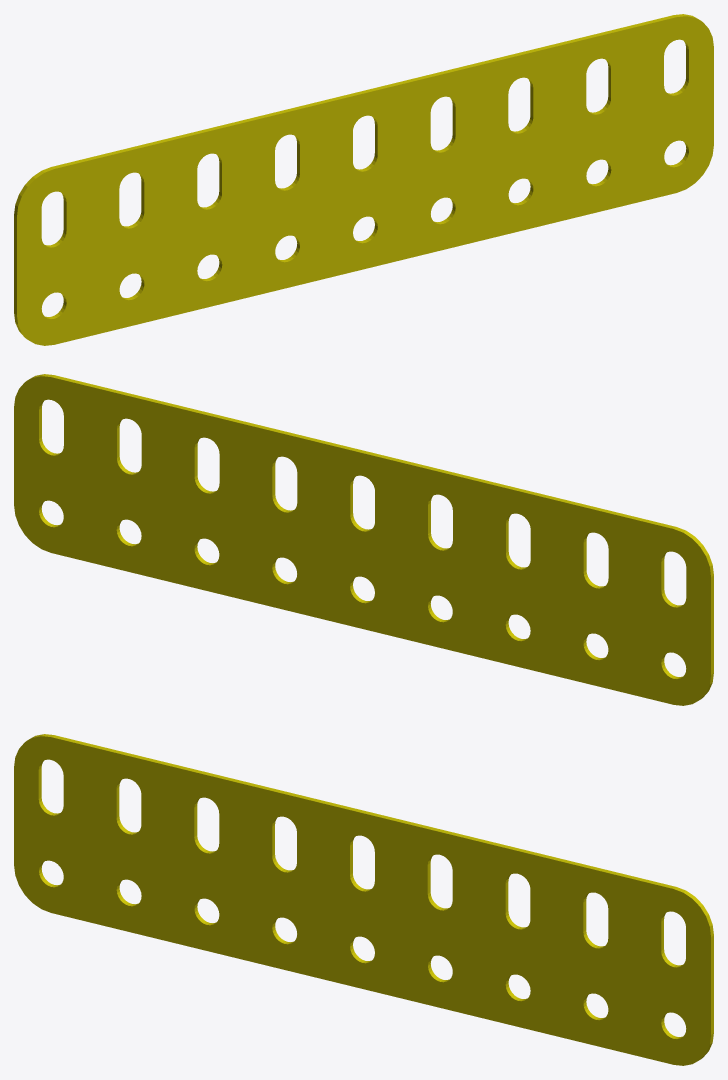
File: TamPhang_2x9_KimLoai_Vang.glb
3 renders of one model, top to bottom at view 1: azimuth 30°, elevation 25°; view 2: azimuth 150°, elevation 25°; view 3: azimuth 330°, elevation 25°, orthographic.
Visible parts, largest first — view 1: defaultobject.001; view 2: defaultobject.001; view 3: defaultobject.001.
Boxes of the visible parts, box(x1,y1,x2,y2) form: defaultobject.001: box(14, 14, 713, 345); defaultobject.001: box(14, 374, 713, 705); defaultobject.001: box(14, 734, 713, 1065).
Bounding box in the file's own units: 335 × 80.87 × 2.4.
